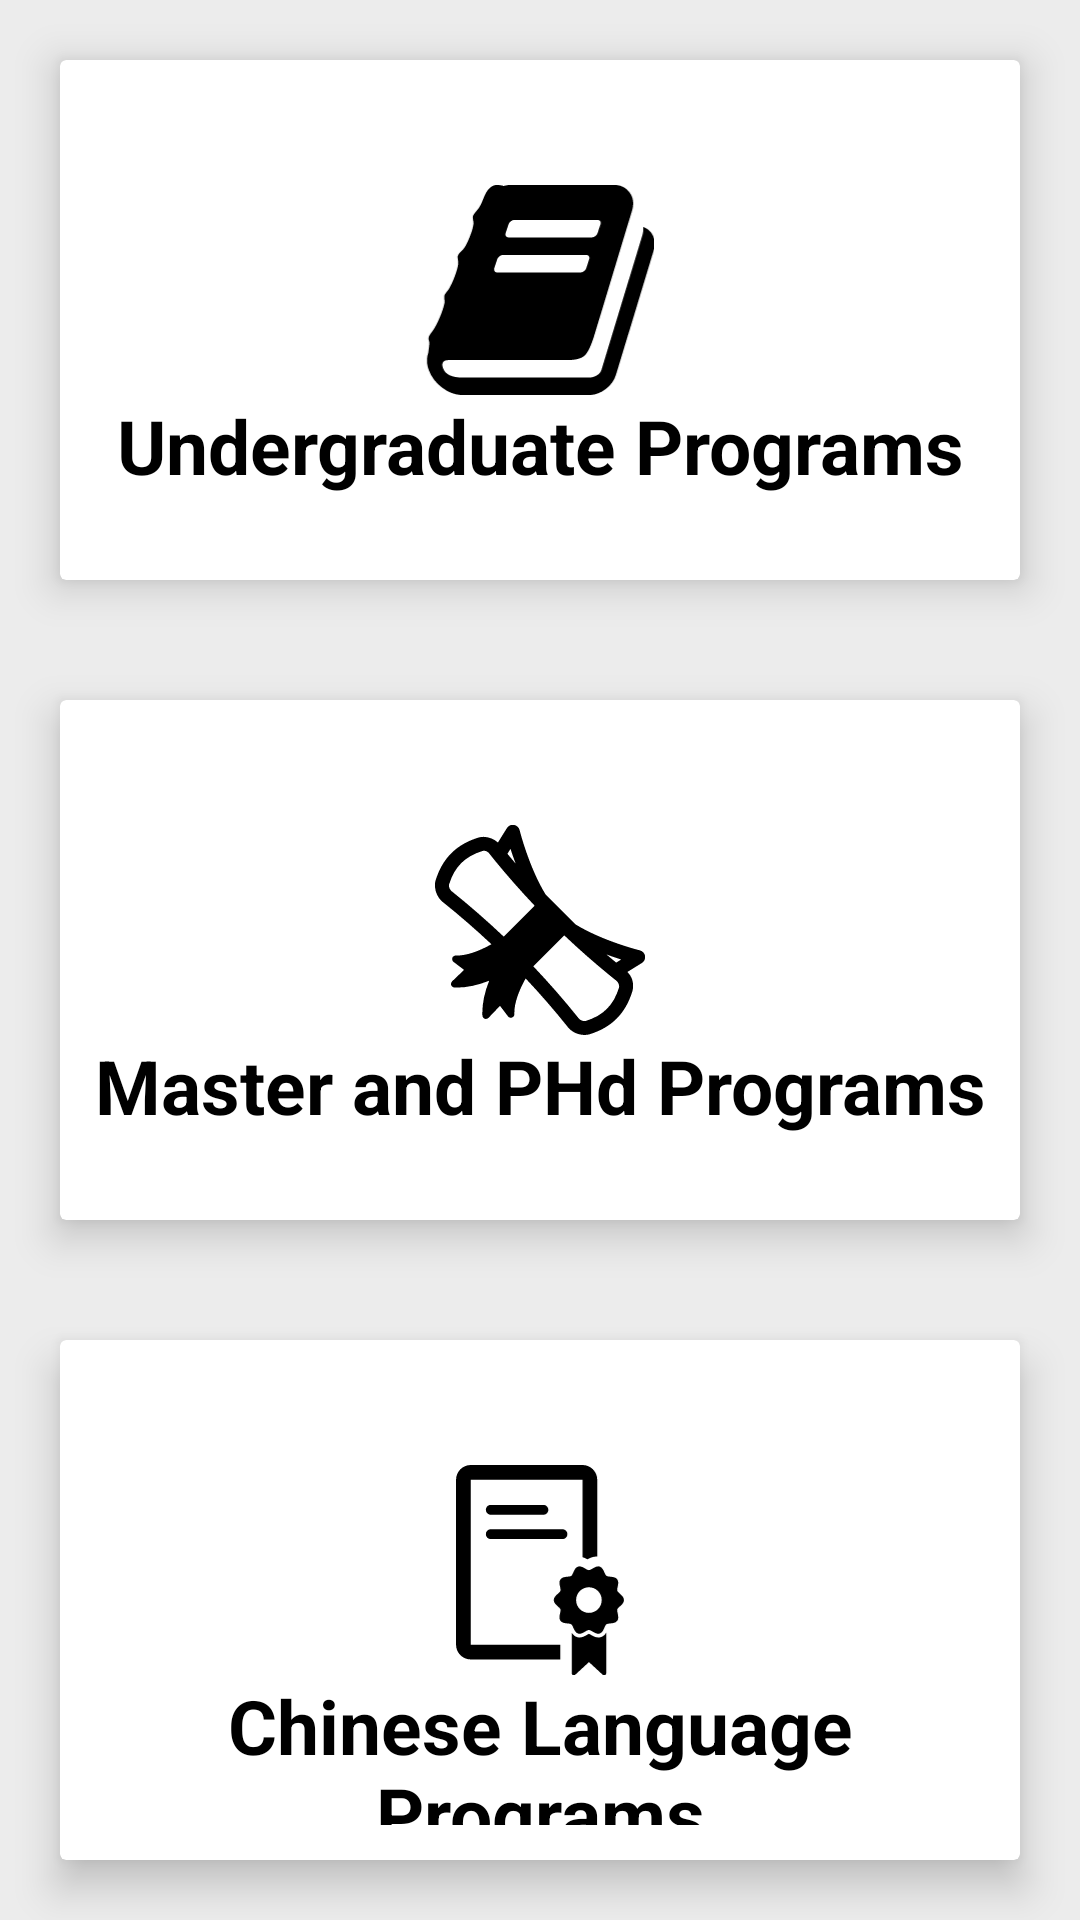

Named icons in this screenshot (1080*1920) and their bounding boxes, bbox=(x1, y1, x2, y2):
book: bbox=(426, 185, 654, 395)
